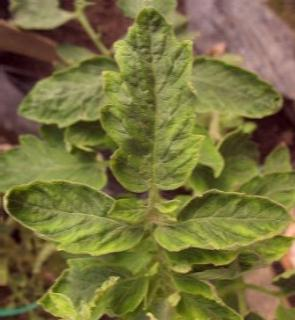Tomato leaf yellow virus: (106, 20, 204, 195), (2, 176, 144, 262), (11, 47, 138, 125), (153, 188, 282, 259), (185, 51, 282, 130)
